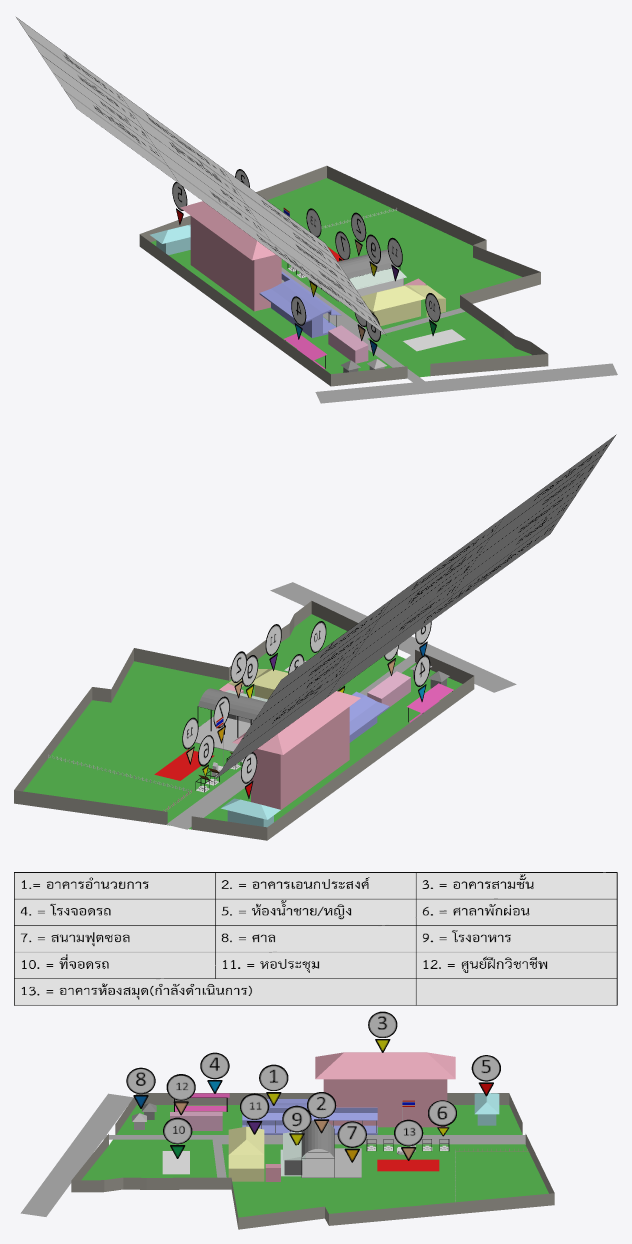
3 renders of one model, top to bottom at view 1: azimuth 30°, elevation 25°; view 2: azimuth 150°, elevation 25°; view 3: azimuth 270°, elevation 25°, orthographic. The views are drawn at different scales.
Visible parts, largest first — view 1: Plane.012; view 2: Plane.012; view 3: Plane.012.
Part boxes in pixels (x1,y1,x2,y2): Plane.012: (16, 17, 617, 403); Plane.012: (14, 434, 616, 840); Plane.012: (14, 872, 617, 1229).
Bounding box in the file's own units: 10.78 × 6.61 × 17.45.
30 materials, 2 textured.
